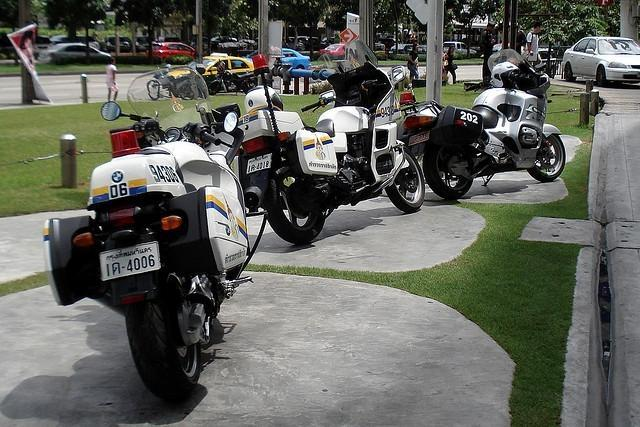car: (558, 37, 640, 88), (168, 55, 254, 84), (38, 43, 113, 64), (245, 48, 312, 70), (147, 42, 193, 56), (106, 36, 140, 54), (534, 47, 557, 70), (444, 42, 476, 56), (32, 40, 59, 56), (320, 43, 346, 55), (389, 44, 412, 54), (210, 36, 237, 44), (296, 37, 308, 52)
motorcycle: (42, 64, 252, 405), (239, 64, 430, 246), (400, 50, 568, 197)
